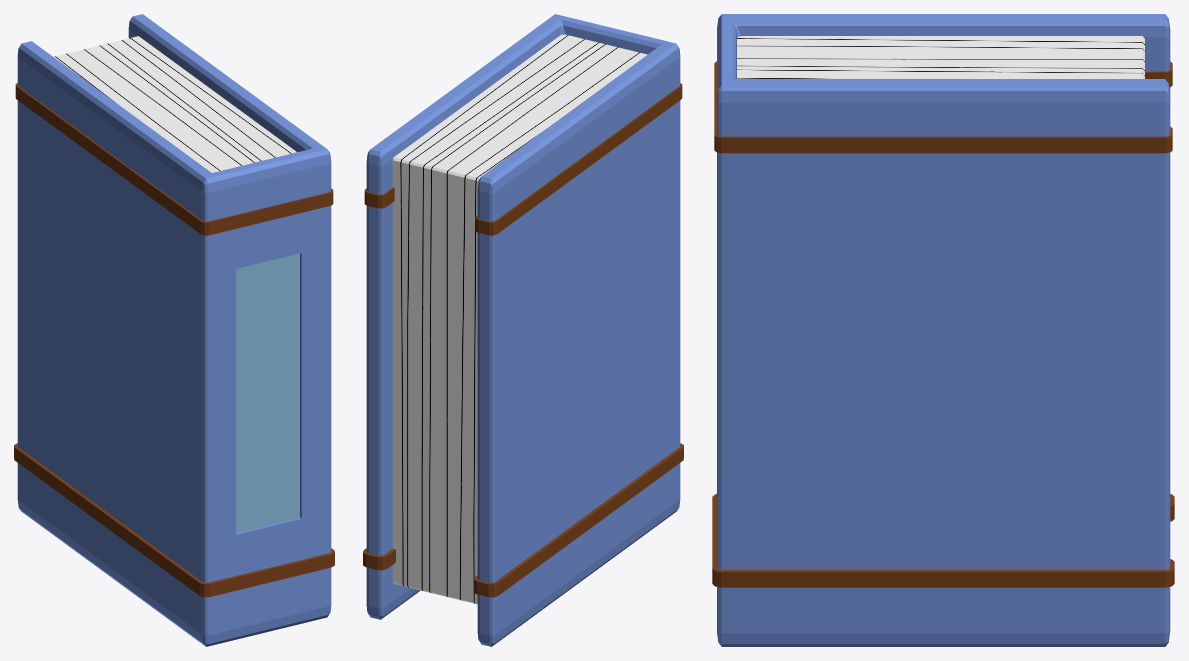
The model's file is Book_3.fbx.
The picture shows the model from 3 angles, left to right: view 1: azimuth 30°, elevation 25°; view 2: azimuth 150°, elevation 25°; view 3: azimuth 270°, elevation 25°; orthographic projection. The views are drawn at different scales.
Visible parts, largest first — view 1: Cube.005; view 2: Cube.005; view 3: Cube.005.
Part boxes in pixels (x1,y1,x2,y2): Cube.005: (14,14,334,646); Cube.005: (363,14,683,646); Cube.005: (712,14,1174,646).
Bounding box in the file's own units: 196 × 651 × 485.
